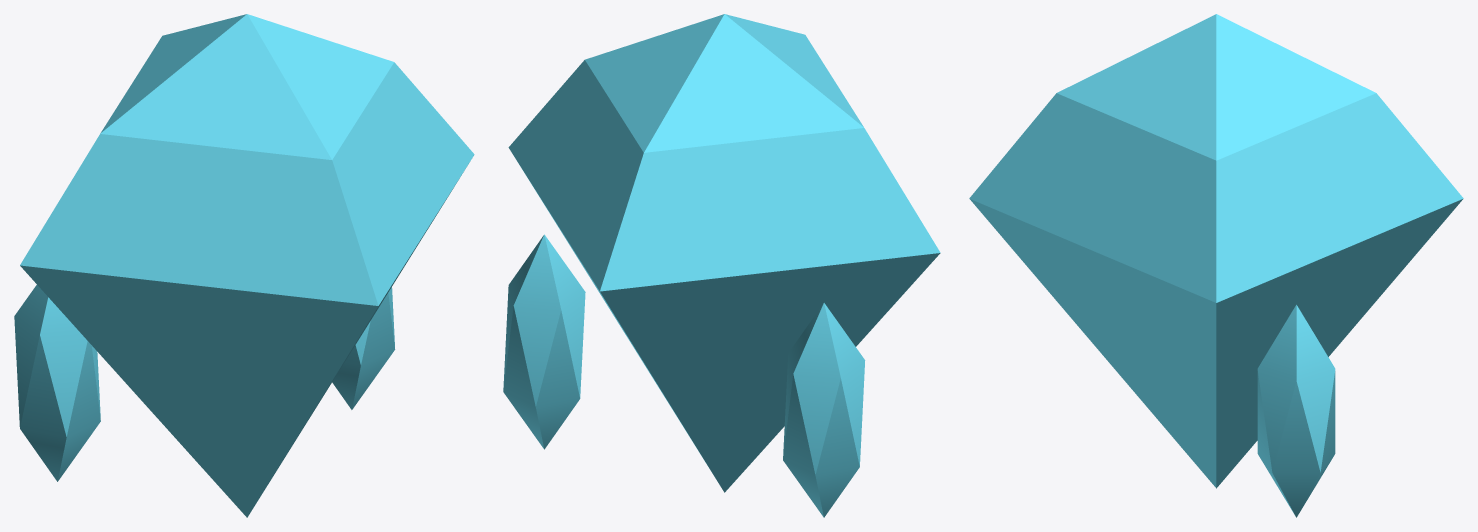
The model's file is item_diamond.glb.
The picture shows the model from 3 angles, left to right: view 1: azimuth 30°, elevation 25°; view 2: azimuth 150°, elevation 25°; view 3: azimuth 270°, elevation 25°; orthographic projection. The views are drawn at different scales.
Parts seen in each view (by area): view 1: item_diamond, item_diamond_detail; view 2: item_diamond, item_diamond_detail; view 3: item_diamond, item_diamond_detail.
Part boxes in pixels (x1=…): item_diamond: x1=20, y1=14, x2=474, y2=517; item_diamond_detail: x1=14, y1=285, x2=395, y2=481; item_diamond: x1=508, y1=14, x2=940, y2=492; item_diamond_detail: x1=503, y1=234, x2=865, y2=517; item_diamond: x1=969, y1=14, x2=1463, y2=488; item_diamond_detail: x1=1257, y1=304, x2=1335, y2=517.
Bounding box in the file's own units: 0.34 × 0.36 × 0.34.
